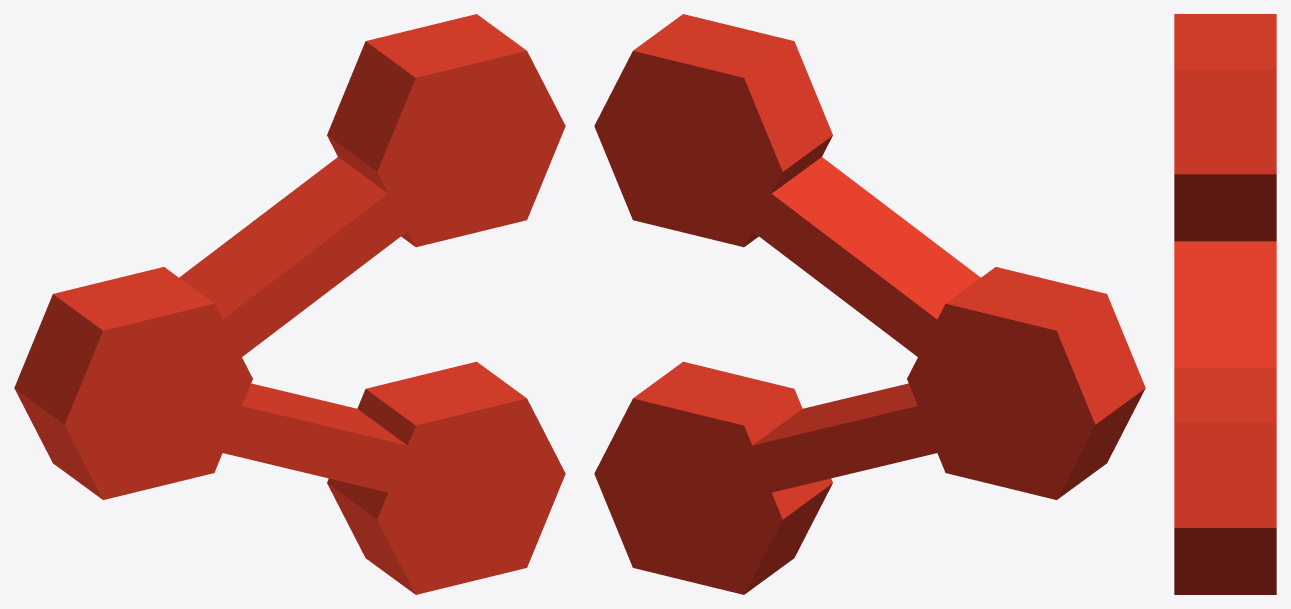
File: Icon_Share.fbx
The picture shows the model from 3 angles, left to right: view 1: azimuth 30°, elevation 25°; view 2: azimuth 150°, elevation 25°; view 3: azimuth 270°, elevation 25°; orthographic projection.
Parts seen in each view (by area): view 1: Icon_Share; view 2: Icon_Share; view 3: Icon_Share.
Part boxes in pixels (x1,y1,x2,y2): Icon_Share: [14, 14, 565, 594]; Icon_Share: [594, 14, 1145, 594]; Icon_Share: [1174, 14, 1276, 594].
Bounding box in the file's own units: 69.39 × 68.41 × 12.06.
